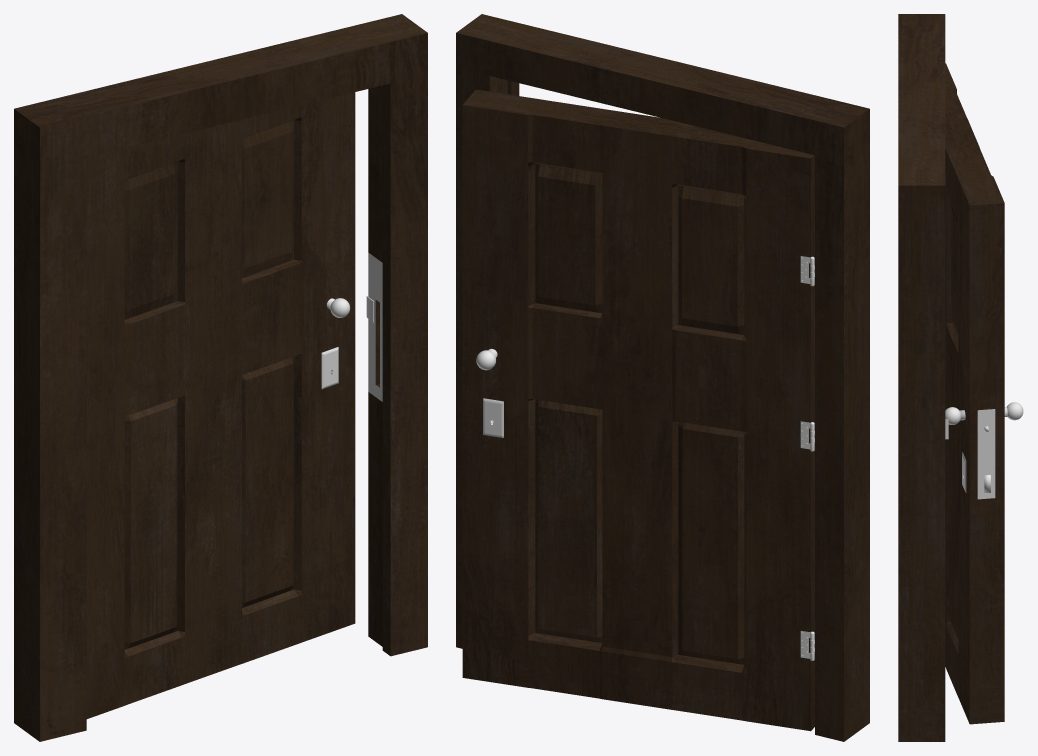
Rendered from Door.fbx.
3 views of the same model, side by side, from view 1: azimuth 30°, elevation 25°; view 2: azimuth 150°, elevation 25°; view 3: azimuth 270°, elevation 25° (orthographic). The views are drawn at different scales.
Visible parts, largest first — view 1: Door.002, door frame.001, door frame, Door.001; view 2: Door.002, door frame.001, Door.001; view 3: door frame.001, Door.002, Door.001.
Part boxes in pixels (box(x1,y1,x2,y2)): Door.002: box(86, 92, 355, 718); door frame.001: box(14, 14, 427, 741); door frame: box(366, 252, 382, 401); Door.001: box(321, 298, 350, 389); Door.002: box(462, 89, 814, 731); door frame.001: box(456, 14, 869, 741); Door.001: box(476, 256, 814, 660); door frame.001: box(898, 14, 945, 741); Door.002: box(945, 63, 1004, 724); Door.001: box(945, 402, 1023, 499).
Size of the model in its own units: 255 by 386 by 78.67.
2 materials, 1 textured.
